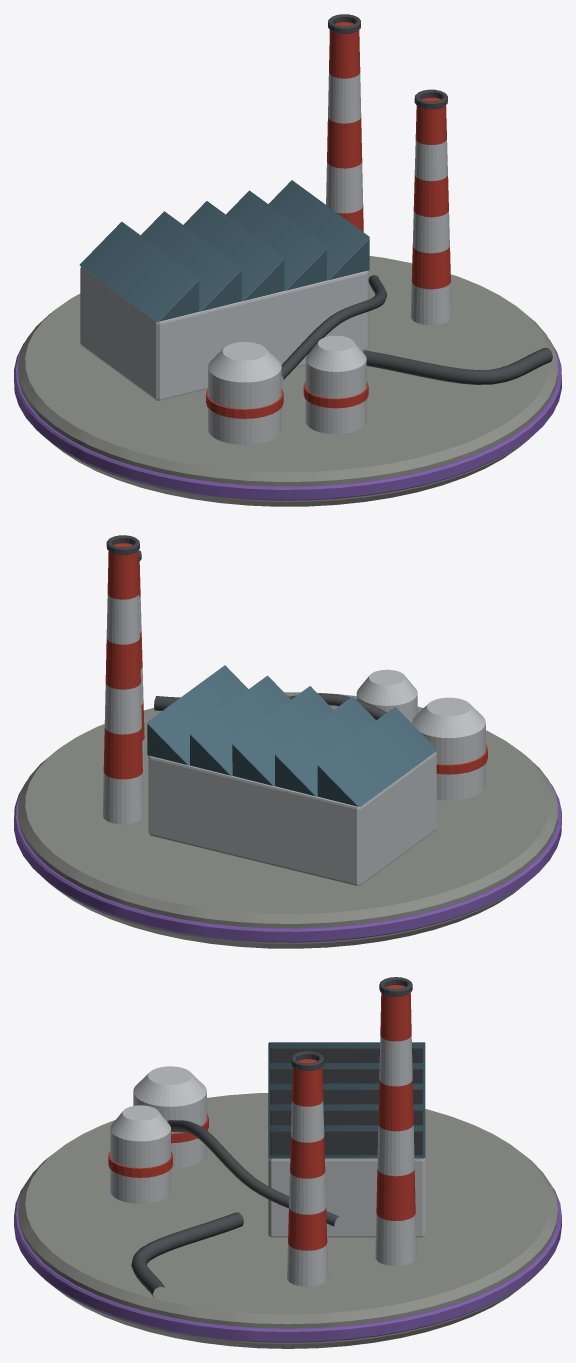
The model's file is cuenca_industria.glb.
The picture shows the model from 3 angles, top to bottom: view 1: azimuth 30°, elevation 25°; view 2: azimuth 150°, elevation 25°; view 3: azimuth 270°, elevation 25°; orthographic projection.
Visible parts, largest first — view 1: geo_detail, geo_base; view 2: geo_detail, geo_base; view 3: geo_base, geo_detail.
Part boxes in pixels (box(x1,y1,x2,y2)): geo_detail: box(79, 14, 552, 444); geo_base: box(14, 256, 561, 506); geo_detail: box(102, 535, 487, 885); geo_base: box(14, 692, 561, 948); geo_base: box(14, 1093, 561, 1348); geo_detail: box(108, 977, 425, 1298).
Bounding box in the file's own units: 0.1116 × 0.0695 × 0.1116.
